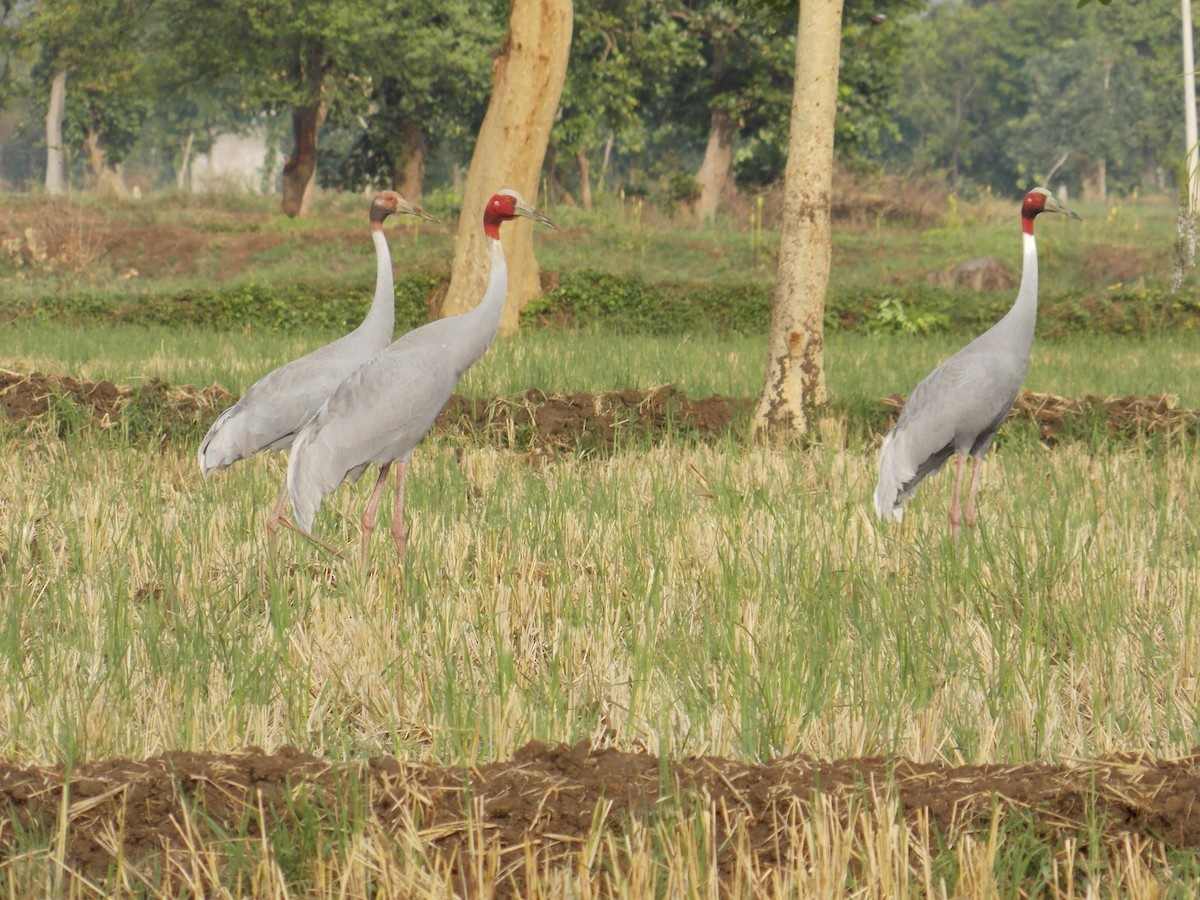crane: (282, 175, 584, 575), (864, 182, 1092, 536), (203, 180, 437, 485)
